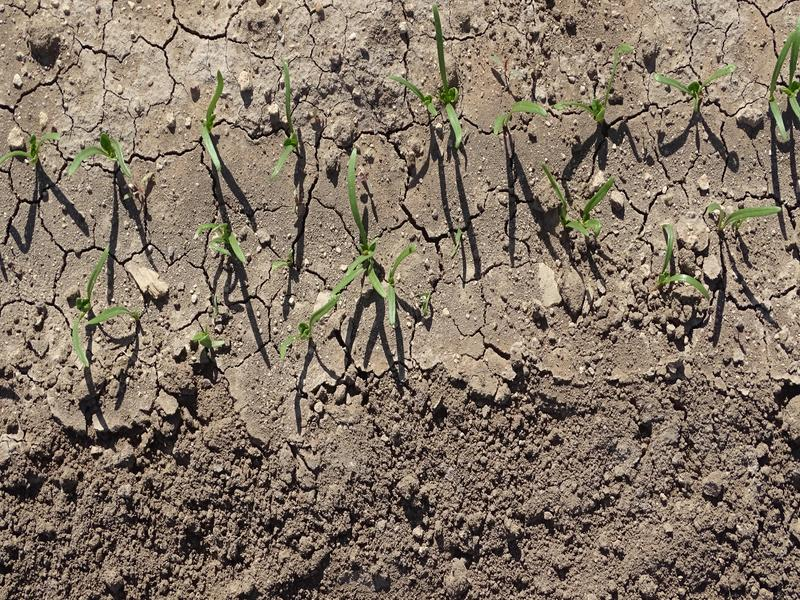Espinaca: (324, 151, 407, 321), (69, 251, 136, 364), (650, 220, 714, 305), (536, 161, 605, 235), (435, 15, 469, 145), (559, 53, 620, 123), (651, 63, 724, 115), (764, 26, 800, 126), (66, 139, 144, 177), (285, 299, 344, 349), (200, 68, 228, 171), (193, 220, 251, 268), (390, 68, 438, 123), (2, 129, 59, 172), (278, 61, 299, 170), (492, 93, 537, 141), (709, 204, 781, 227)
